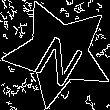N_NE: (28, 21, 89, 85)
